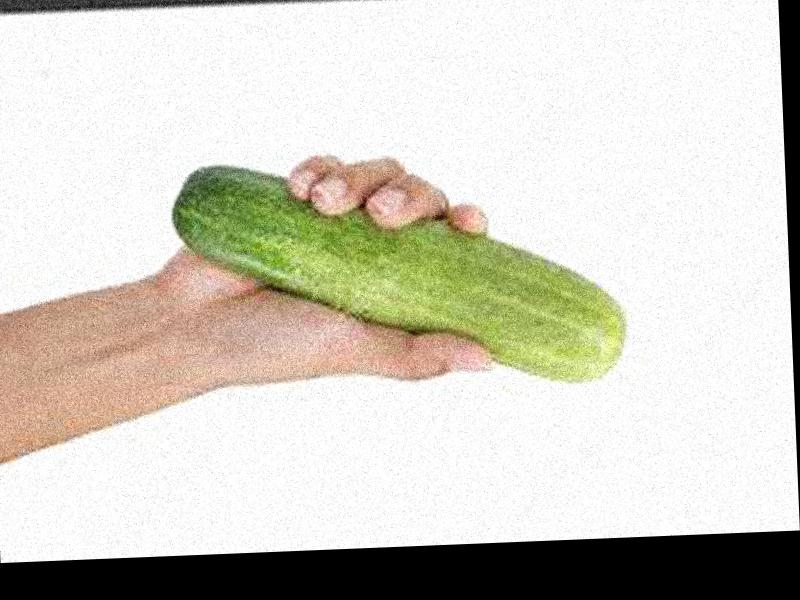Cucumber: (169, 152, 625, 402)
